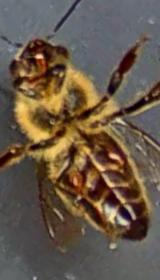varroa_mite: (90, 140, 138, 178), (60, 156, 96, 196)
